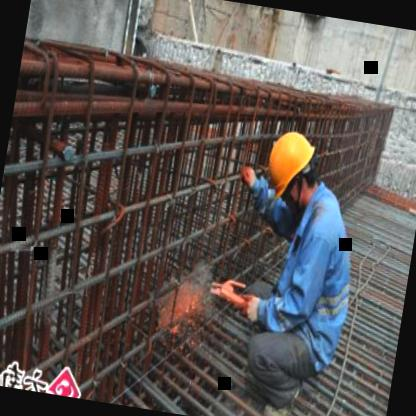helmet: (254, 120, 335, 218)
